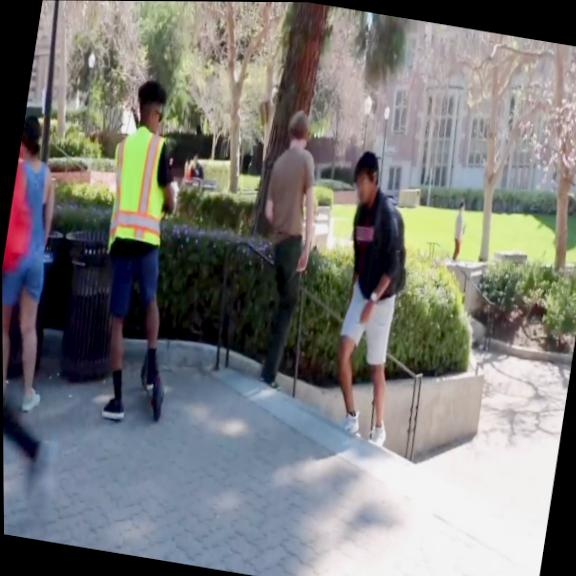safety_vest: (99, 122, 177, 252)
